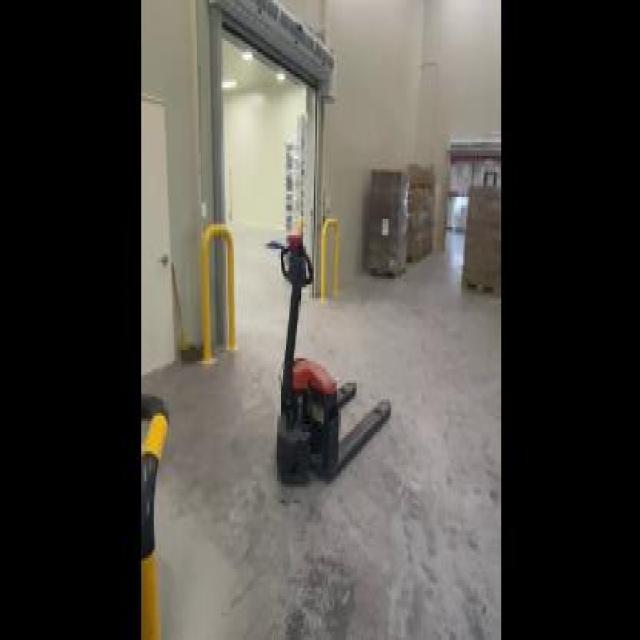box: (366, 164, 408, 282), (457, 183, 497, 298), (406, 162, 437, 262)
robot: (272, 222, 392, 495)
